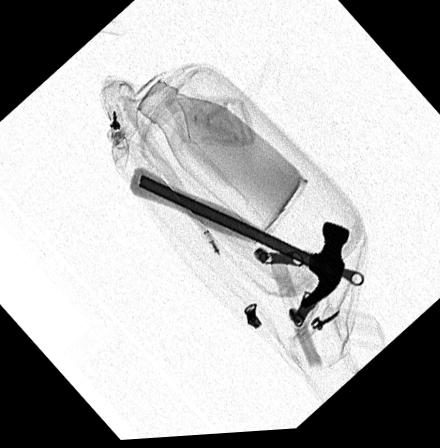Hammer: (129, 170, 350, 315)
